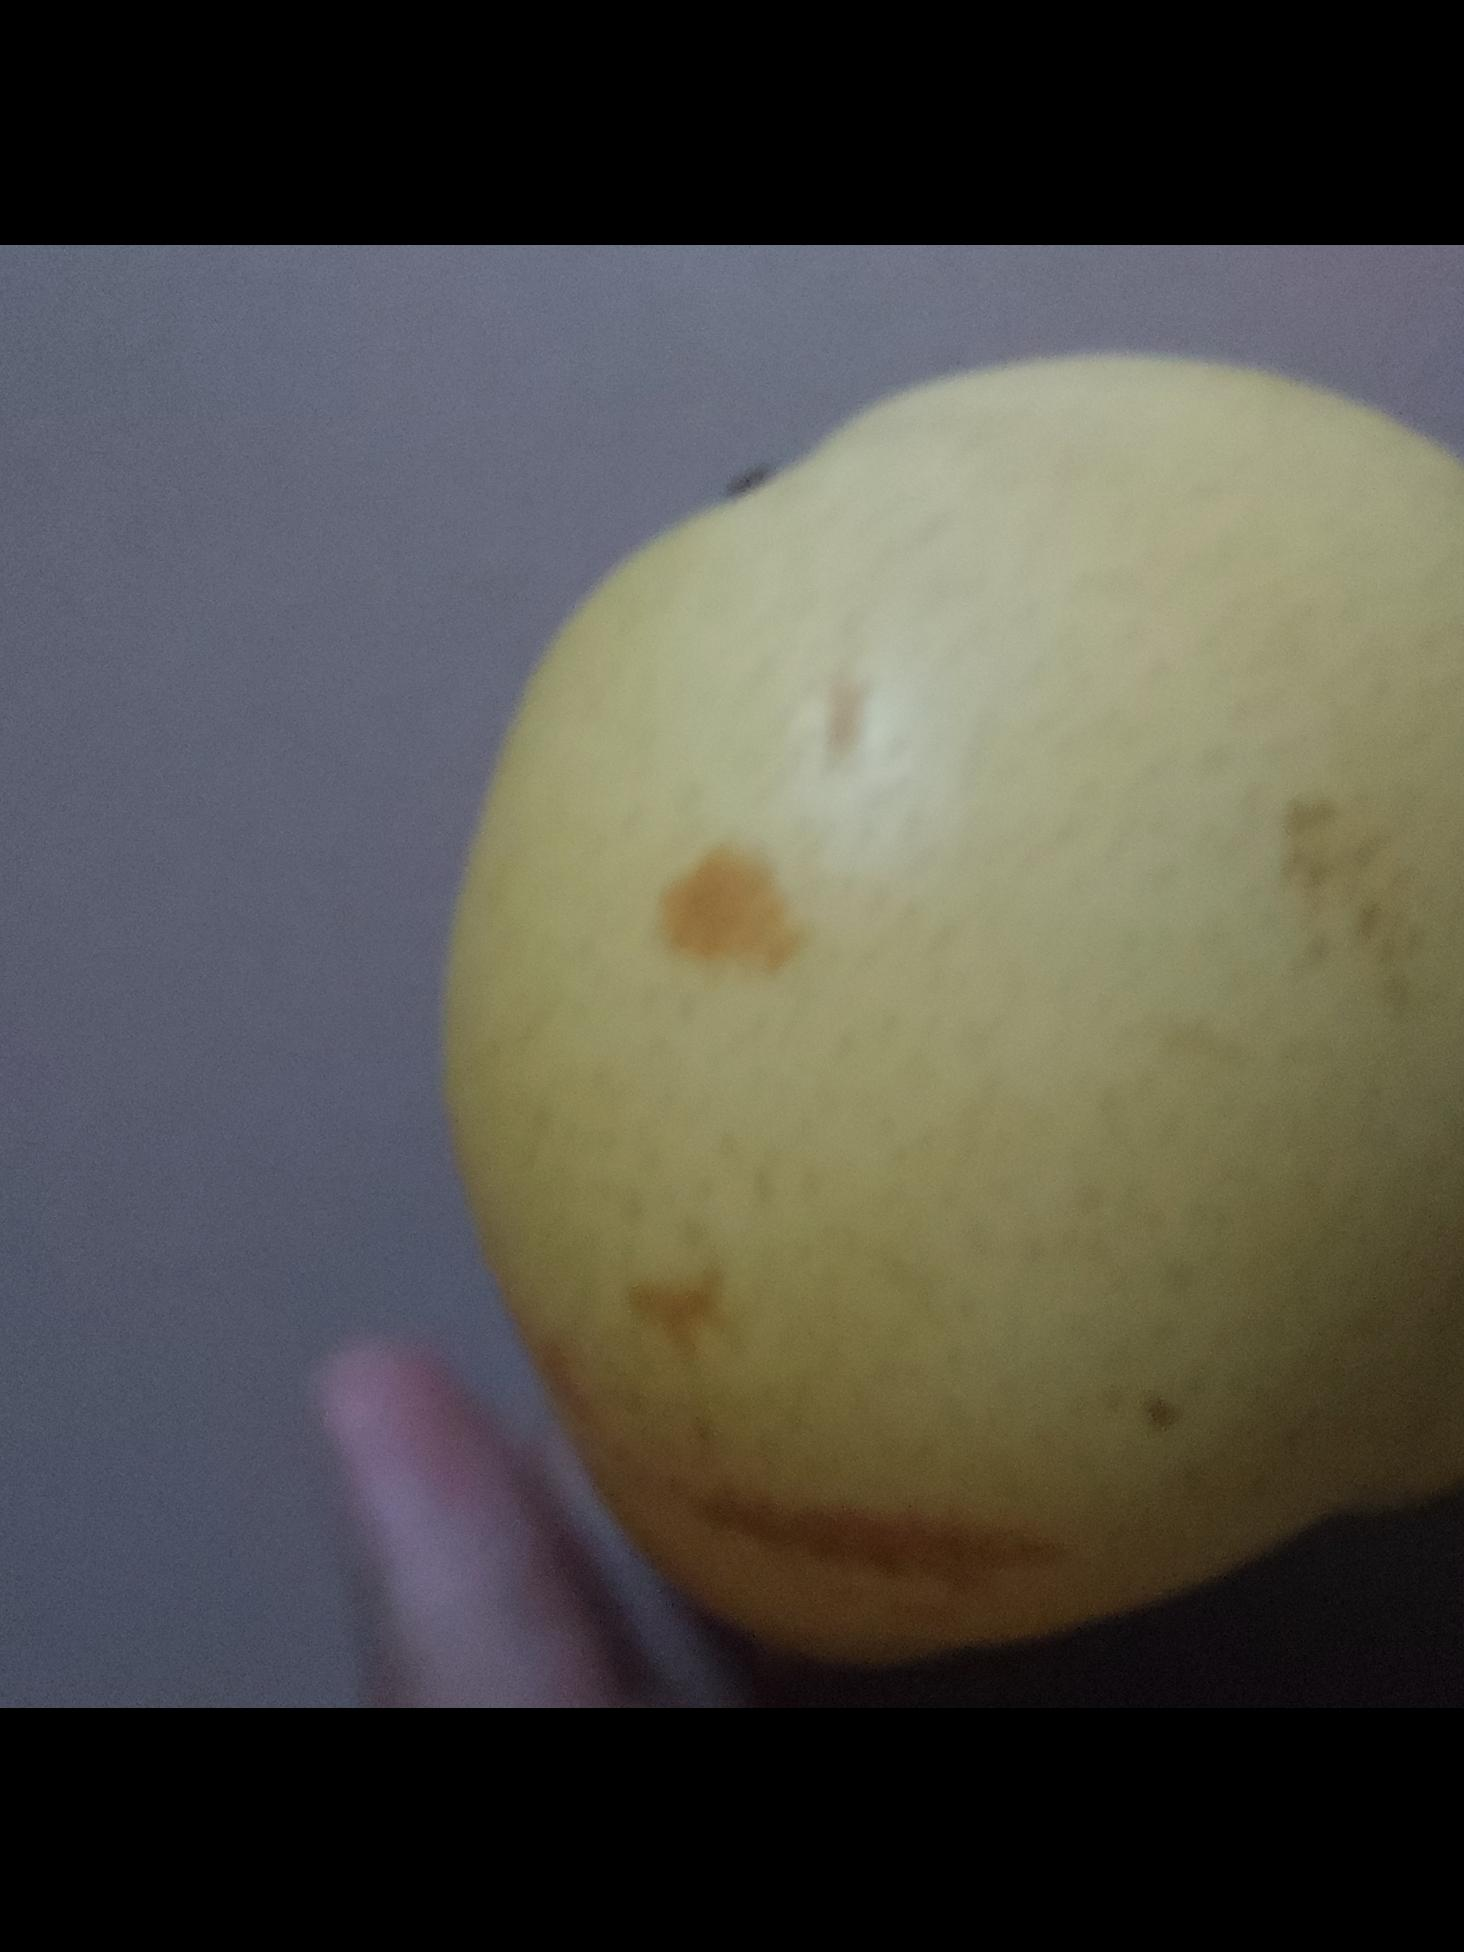Good Pear: (418, 317, 1464, 1651)
